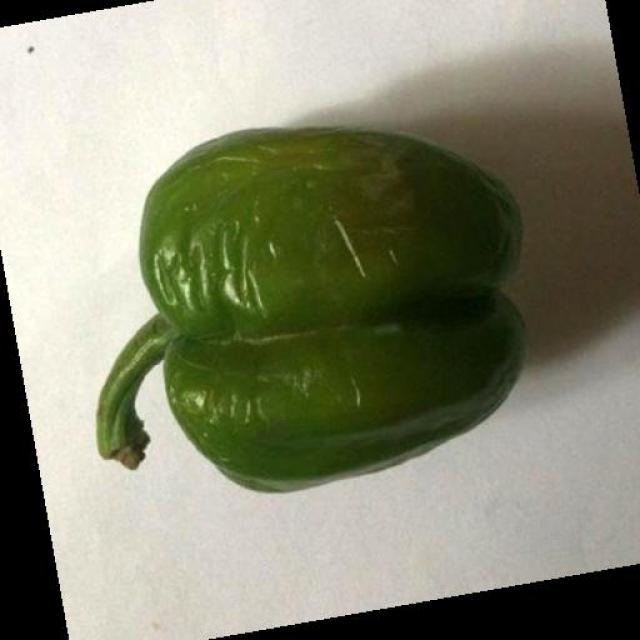Stale_Capsicum: (135, 146, 519, 484)
